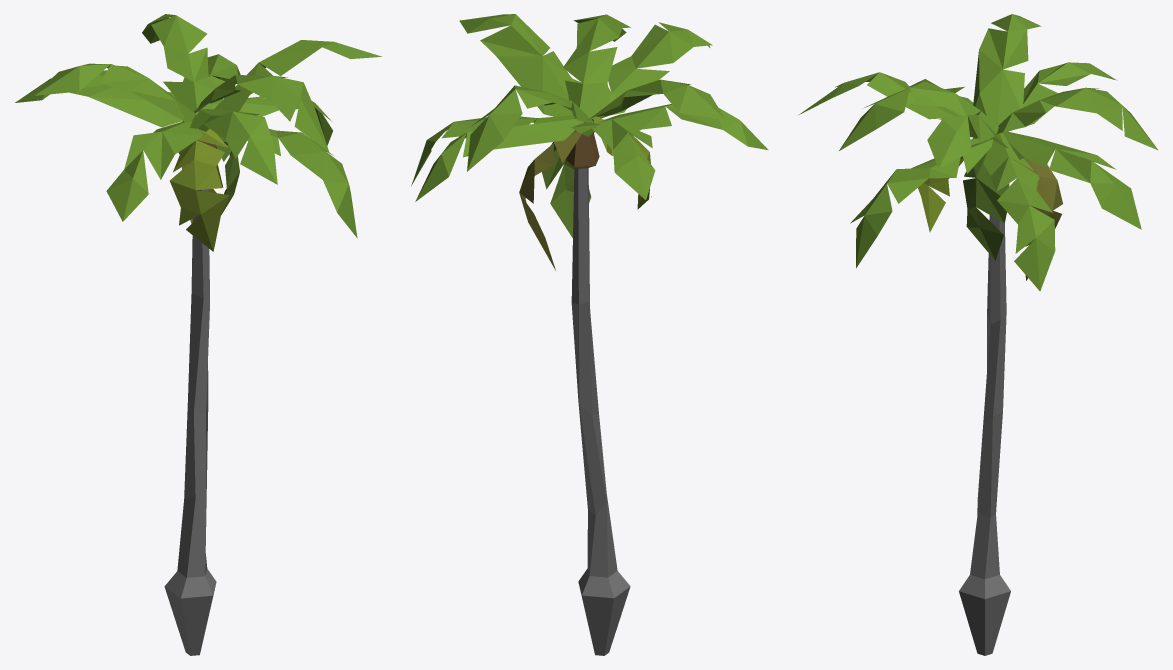
The model's file is Env_Tree02.FBX.
3 renders of one model, left to right at view 1: azimuth 30°, elevation 25°; view 2: azimuth 150°, elevation 25°; view 3: azimuth 270°, elevation 25°, orthographic. The views are drawn at different scales.
Parts seen in each view (by area): view 1: Env_Tree02; view 2: Env_Tree02; view 3: Env_Tree02.
Part boxes in pixels (box(x1,y1,x2,y2)): Env_Tree02: box(15, 14, 381, 655); Env_Tree02: box(411, 14, 768, 655); Env_Tree02: box(799, 14, 1158, 655).
Bounding box in the file's own units: 347 × 649 × 360.
1 material, 1 textured.
